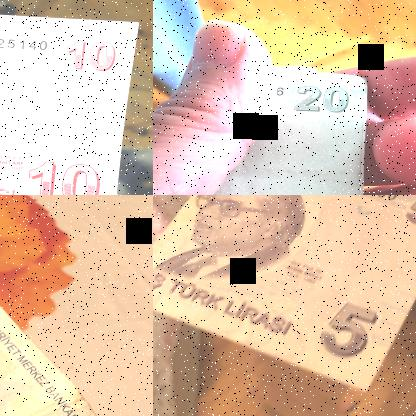5 TL: (0, 8, 142, 194)
